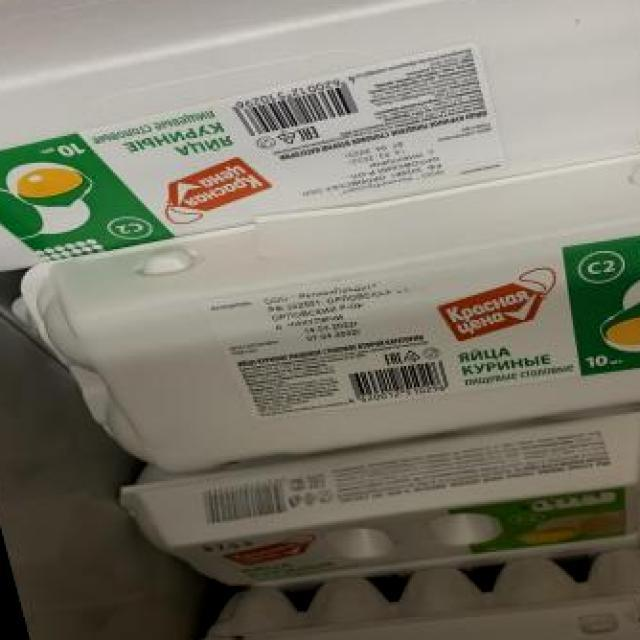egg: (0, 136, 640, 487), (0, 0, 640, 278), (111, 398, 640, 604)
